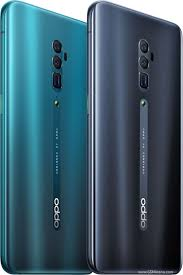oppo: (88, 1, 181, 275), (1, 1, 89, 273)
